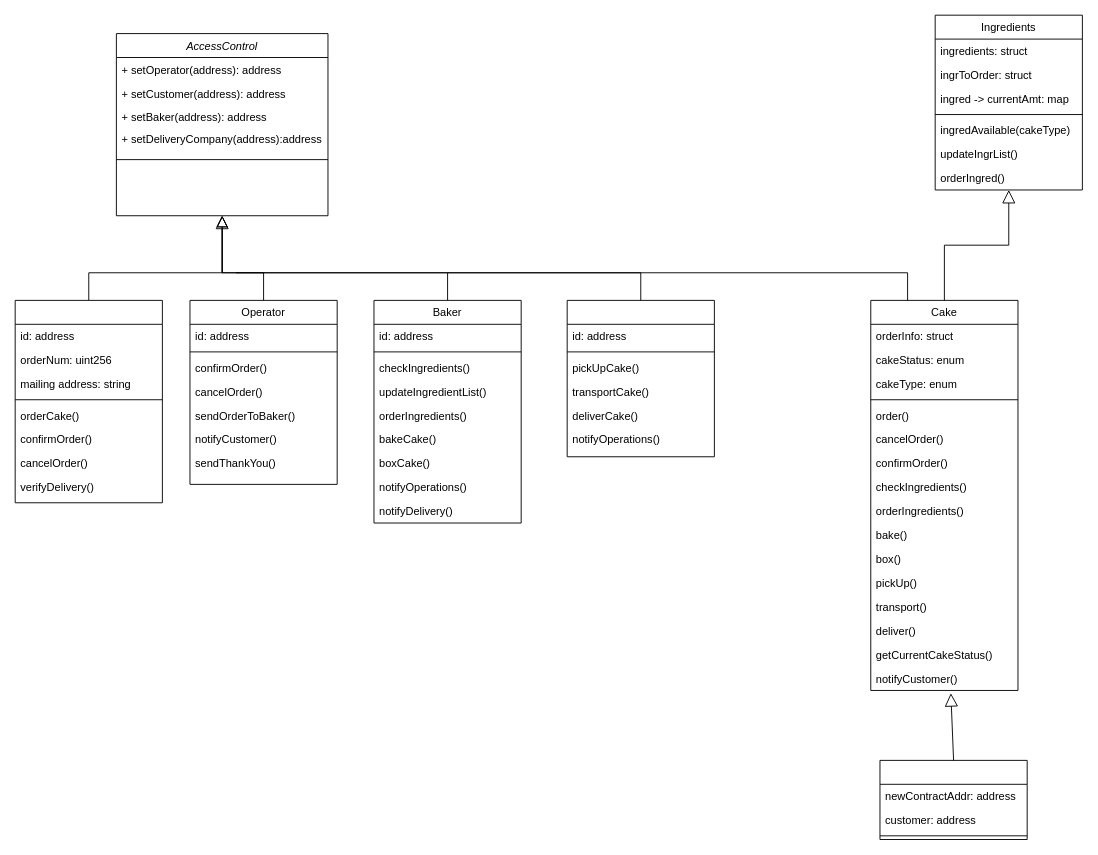
The diagram is 1098 pixels wide and 855 high, and some of its shapes have lost their labels. Here are the shapes that lost their labels. From the top down, the box of each, then its label:
(566, 299, 714, 457): Delivery Company
(14, 299, 162, 503): Customer
(879, 759, 1027, 840): Core
